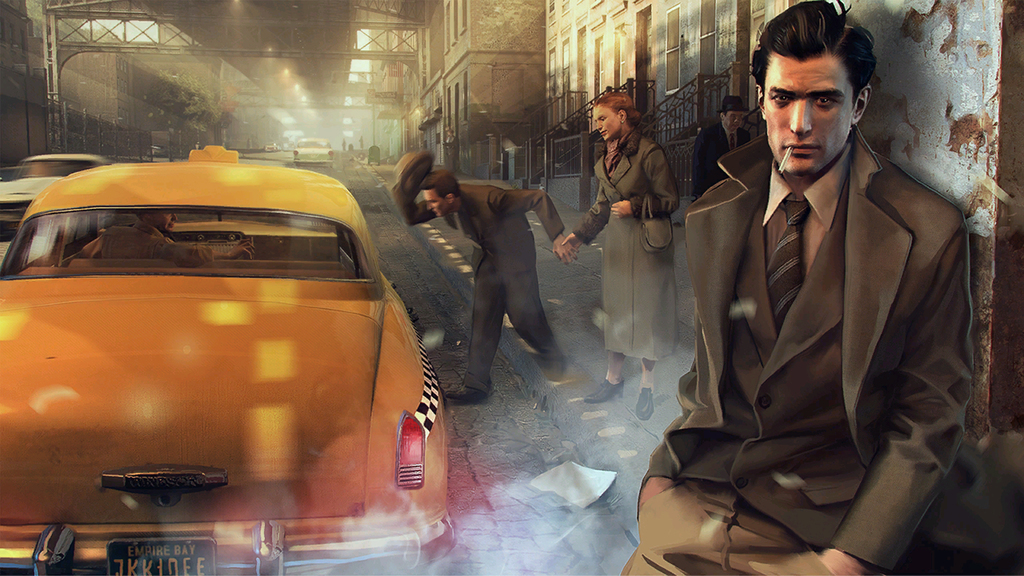Car: (0, 140, 452, 575), (0, 150, 100, 235), (292, 135, 332, 161)
